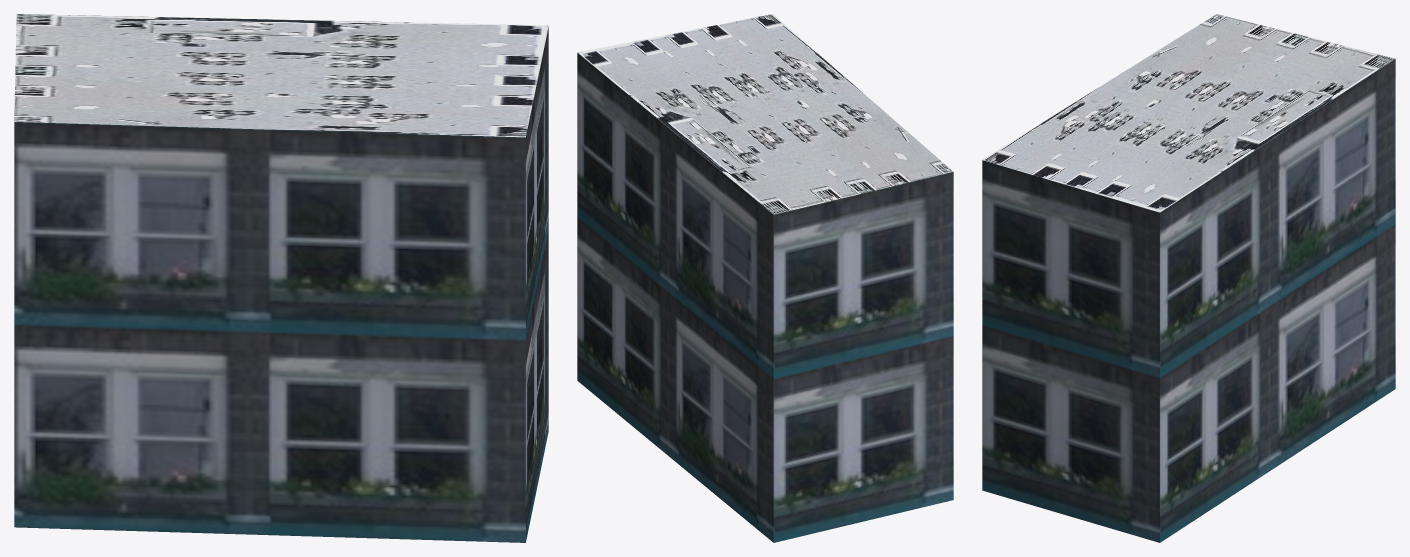
The model's file is ResTex__4884.fbx.
3 renders of one model, left to right at view 1: azimuth 30°, elevation 25°; view 2: azimuth 150°, elevation 25°; view 3: azimuth 270°, elevation 25°, orthographic. The views are drawn at different scales.
Visible parts, largest first — view 1: CityEngineMaterial_11_m, CityEngineMaterial_8_m; view 2: CityEngineMaterial_11_m, CityEngineMaterial_8_m; view 3: CityEngineMaterial_11_m, CityEngineMaterial_8_m.
Boxes of the visible parts, x1,y1,x2,y2 form: CityEngineMaterial_11_m: [14, 27, 548, 542]; CityEngineMaterial_8_m: [14, 14, 548, 137]; CityEngineMaterial_11_m: [577, 53, 953, 542]; CityEngineMaterial_8_m: [577, 14, 953, 214]; CityEngineMaterial_11_m: [982, 59, 1395, 542]; CityEngineMaterial_8_m: [982, 14, 1394, 212].
Size of the model in its own units: 7.74 by 6 by 6.81.
2 materials, 2 textured.
